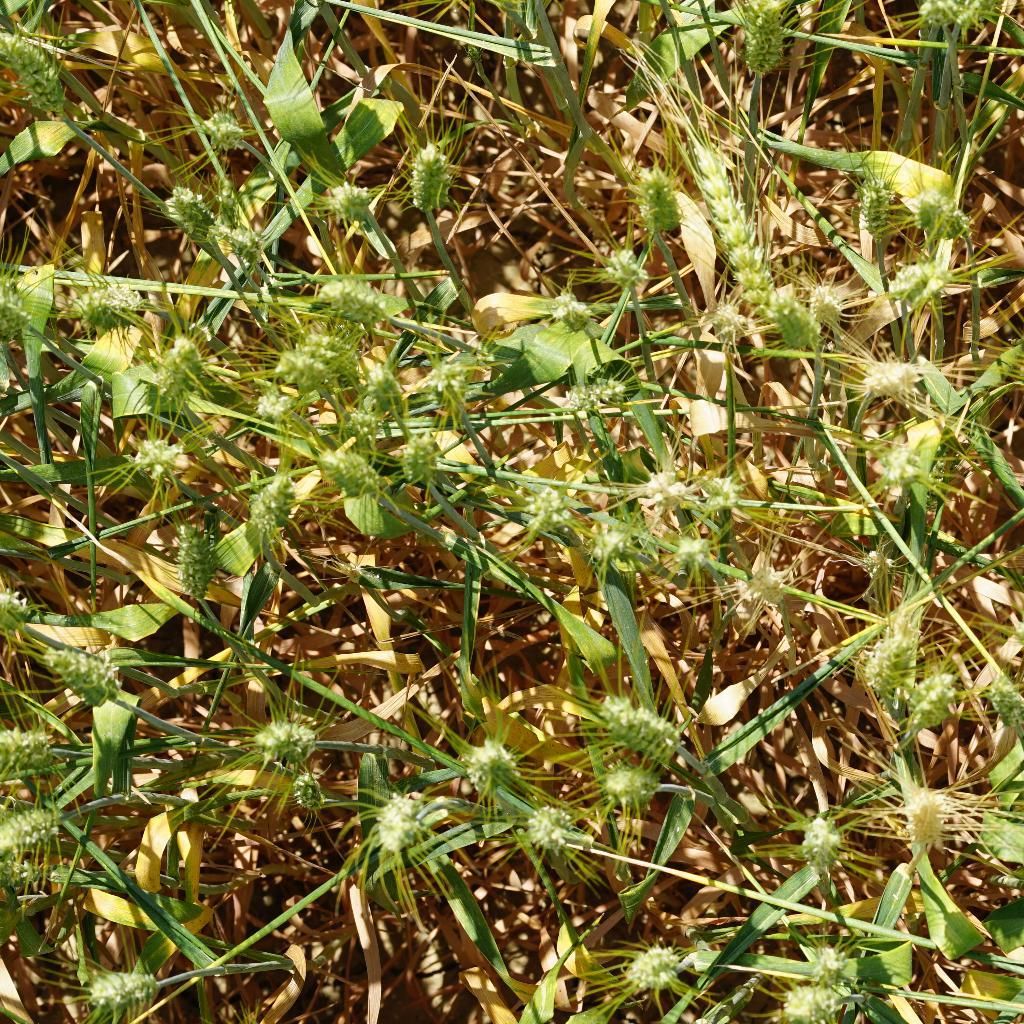0-0: (681, 130, 772, 299), (906, 415, 990, 512), (0, 32, 82, 124), (587, 684, 688, 758), (234, 473, 317, 560), (855, 343, 940, 419), (44, 647, 141, 713), (71, 953, 169, 1017), (890, 774, 967, 855), (550, 361, 639, 429), (503, 475, 583, 548), (159, 178, 242, 248), (582, 752, 675, 813), (309, 445, 393, 512), (392, 131, 462, 210), (840, 630, 922, 697), (879, 250, 963, 313), (236, 709, 324, 769), (305, 269, 388, 331), (783, 808, 853, 880), (171, 512, 224, 606), (729, 0, 791, 79), (69, 273, 150, 333), (0, 798, 92, 848), (0, 715, 75, 776), (904, 672, 968, 743), (363, 789, 434, 852), (909, 187, 979, 248), (417, 351, 477, 422), (865, 436, 935, 495), (795, 933, 879, 982), (616, 940, 686, 998), (366, 377, 432, 437), (120, 432, 188, 490), (391, 436, 455, 496), (851, 171, 900, 249), (635, 164, 681, 247), (776, 979, 860, 1024), (583, 511, 642, 574), (313, 164, 376, 223), (456, 736, 527, 788), (295, 332, 362, 384), (272, 351, 339, 403), (150, 335, 202, 397), (590, 231, 653, 281), (190, 102, 255, 150), (0, 262, 40, 340), (669, 533, 727, 586), (525, 798, 576, 858), (804, 271, 852, 332), (769, 279, 811, 348), (701, 292, 751, 348), (539, 288, 594, 335), (697, 464, 744, 518), (985, 676, 1024, 741), (854, 541, 901, 592), (733, 560, 789, 601), (641, 467, 681, 522), (210, 171, 243, 230), (247, 389, 297, 424), (224, 227, 265, 266), (290, 771, 328, 813), (342, 407, 380, 446), (913, 0, 963, 25), (328, 556, 367, 588), (463, 39, 483, 66)
